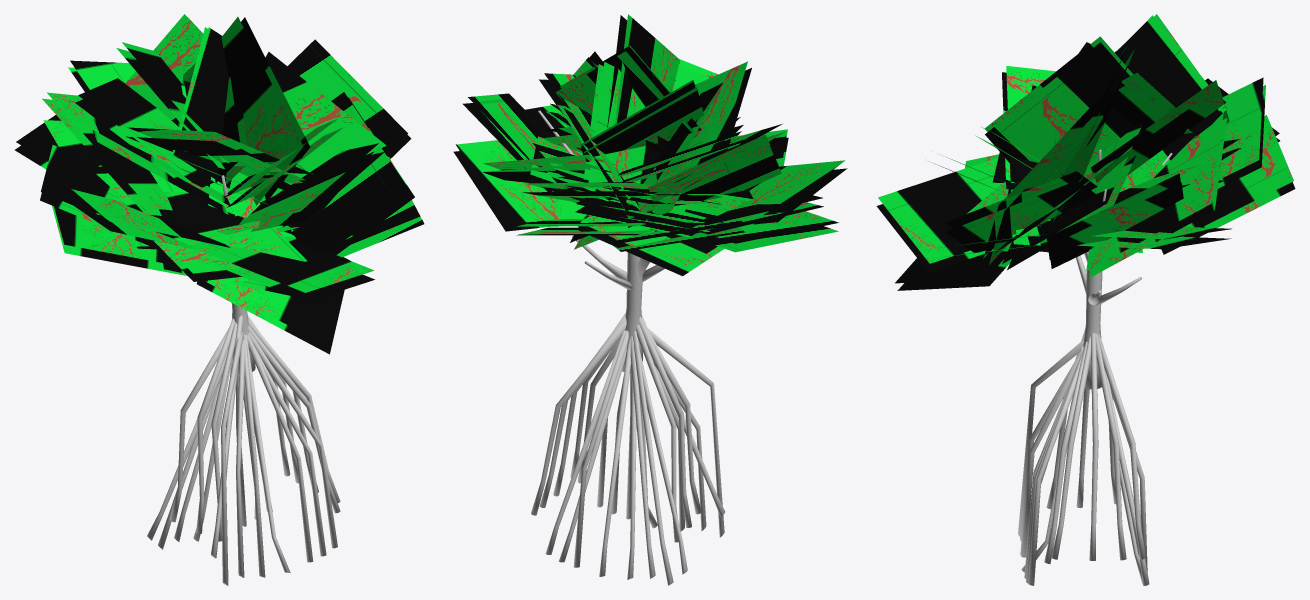
The model's file is MangalPequeno.dae.
3 views of the same model, side by side, from view 1: azimuth 30°, elevation 25°; view 2: azimuth 150°, elevation 25°; view 3: azimuth 270°, elevation 25° (orthographic). The views are drawn at different scales.
Parts seen in each view (by area): view 1: Cilindro.005; view 2: Cilindro.005; view 3: Cilindro.005.
Boxes of the visible parts, x1=… form: Cilindro.005: x1=15, y1=14, x2=424, y2=585; Cilindro.005: x1=453, y1=14, x2=847, y2=585; Cilindro.005: x1=876, y1=14, x2=1295, y2=585.
Size of the model in its own units: 5.54 by 5.9 by 8.28.
